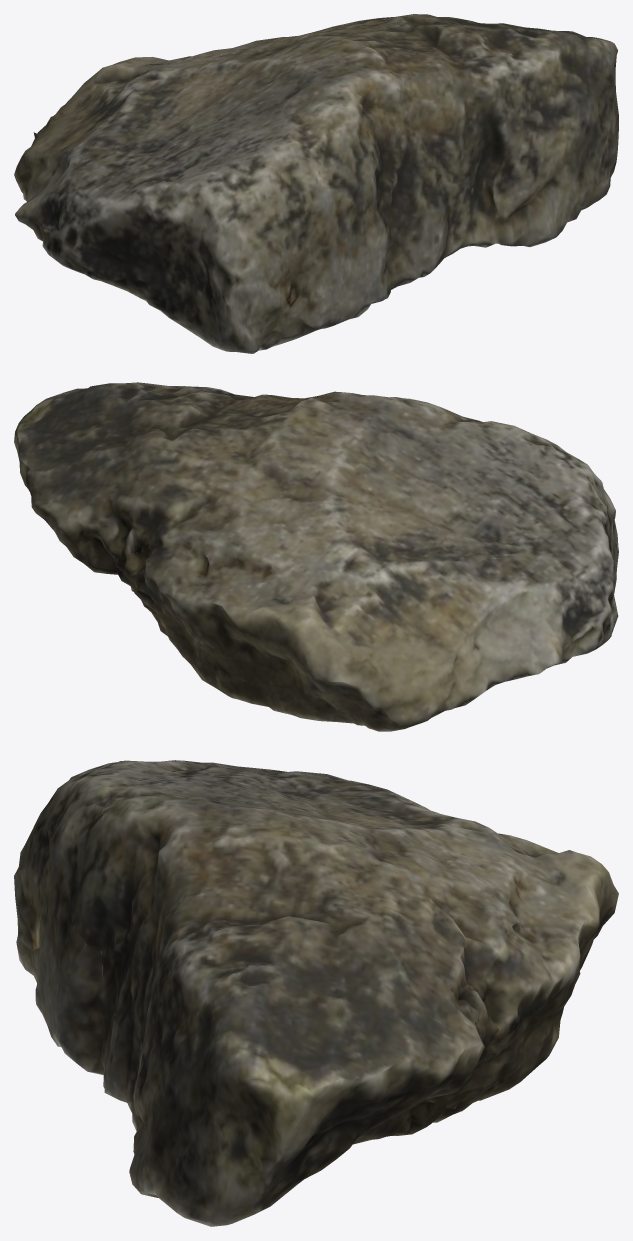
Rendered from moss_stone_10.glb.
3 views of the same model, one above another, from view 1: azimuth 30°, elevation 25°; view 2: azimuth 150°, elevation 25°; view 3: azimuth 270°, elevation 25° (orthographic). The views are drawn at different scales.
Visible parts, largest first — view 1: moss_stone_10; view 2: moss_stone_10; view 3: moss_stone_10.
Part boxes in pixels (x1,y1,x2,y2): moss_stone_10: (14, 14, 618, 353); moss_stone_10: (14, 382, 618, 731); moss_stone_10: (14, 760, 618, 1226).
Size of the model in its own units: 1 by 0.3486 by 0.7039.
1 material, 1 textured.
